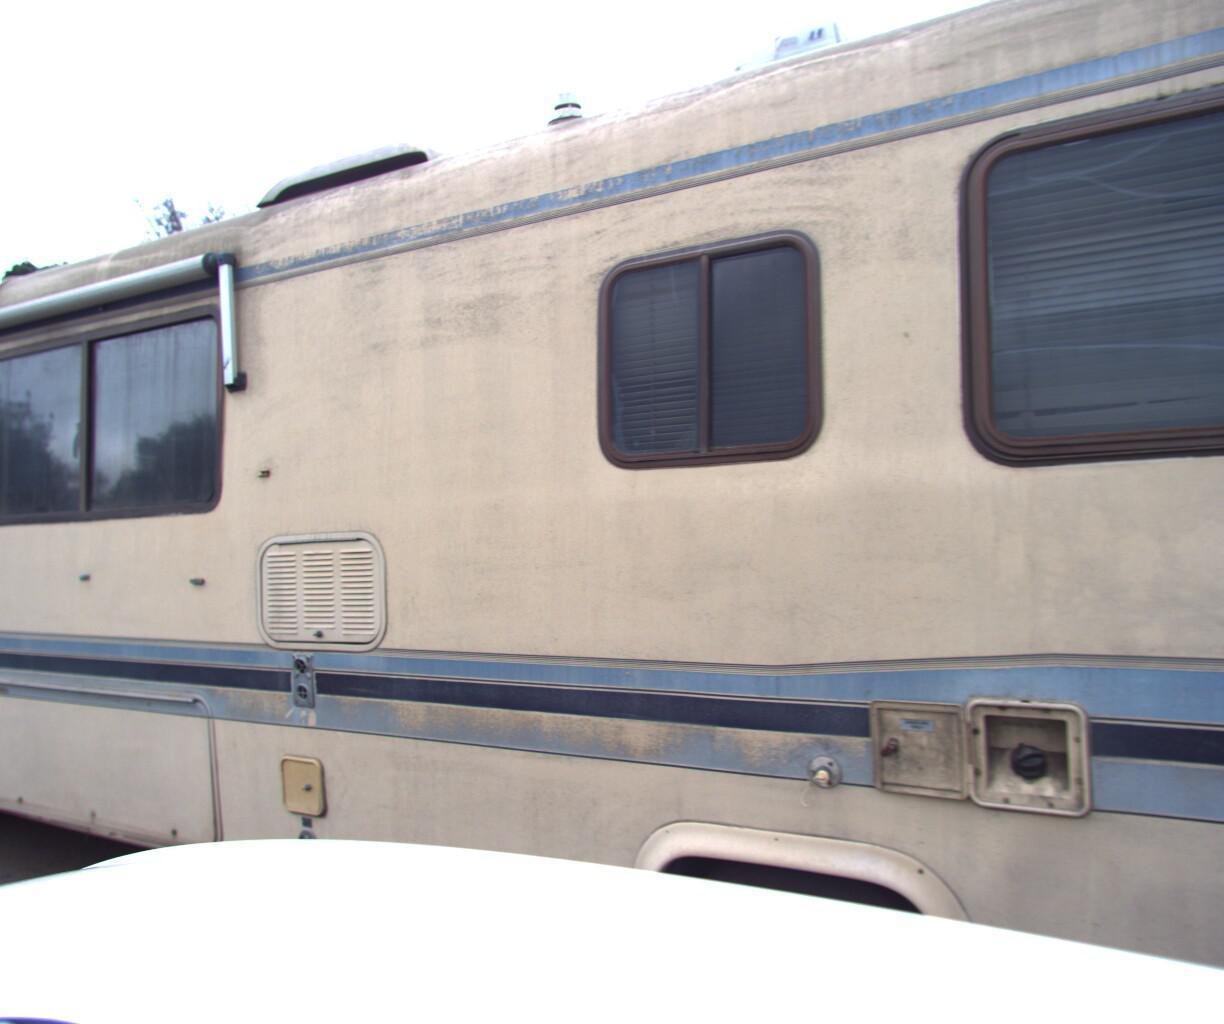car: (0, 517, 66, 768)
other_vehicle: (0, 0, 1224, 1024)
